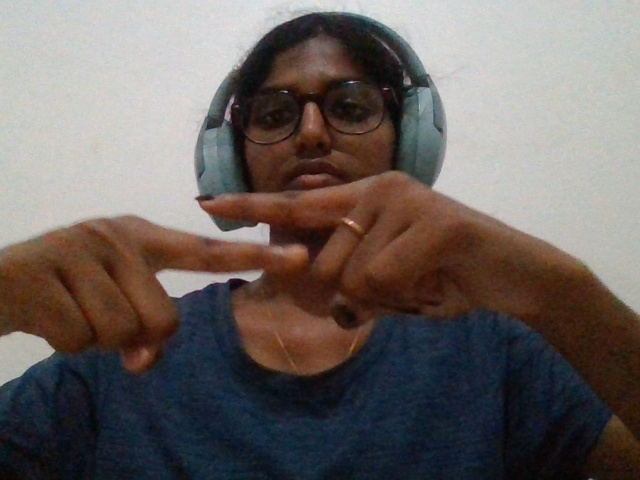Sign: (2, 156, 593, 416)
